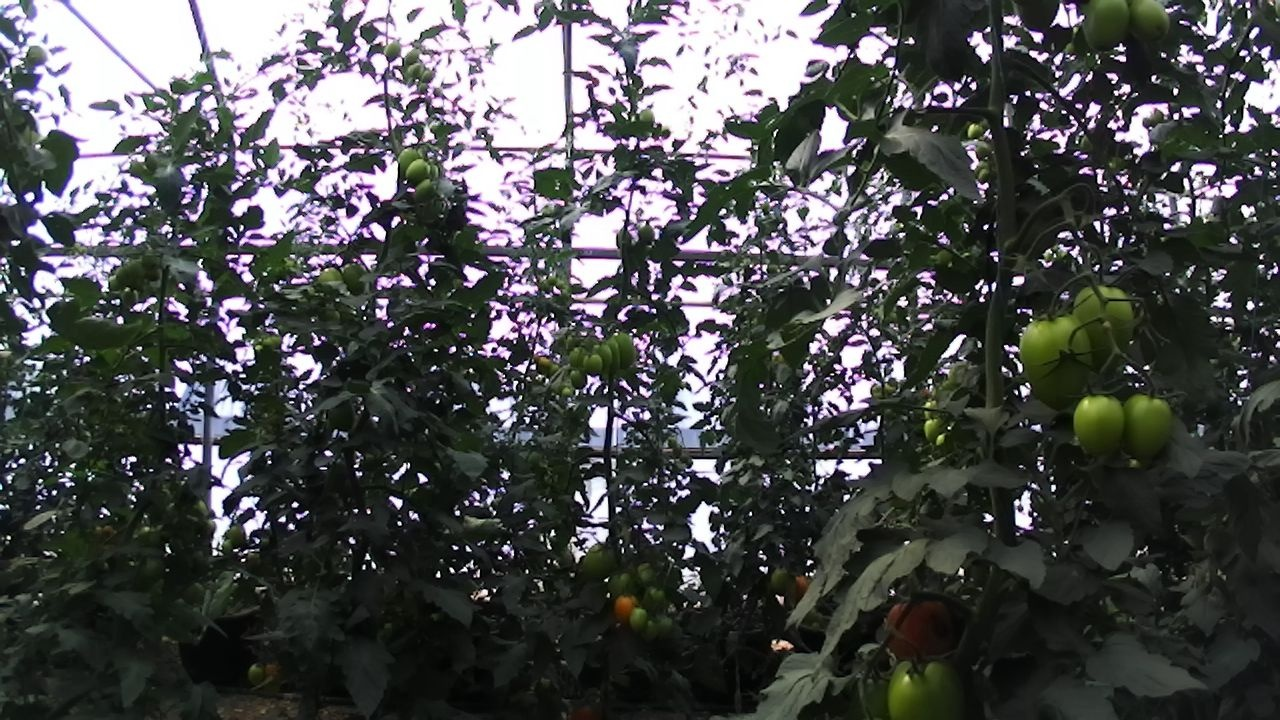tomato: (1006, 299, 1109, 426), (1060, 269, 1151, 379), (865, 585, 977, 673), (871, 641, 976, 720), (1061, 378, 1137, 469), (1114, 381, 1186, 468), (1072, 0, 1142, 68), (1115, 0, 1181, 67), (577, 540, 624, 585), (337, 260, 377, 301), (131, 547, 169, 590), (312, 260, 352, 297), (602, 566, 640, 604), (628, 557, 665, 593), (612, 328, 639, 375), (19, 37, 55, 72), (401, 154, 436, 189), (611, 591, 643, 628), (765, 562, 796, 599), (394, 141, 422, 181), (919, 412, 951, 446), (638, 580, 669, 614), (602, 333, 625, 378), (647, 610, 680, 639), (412, 174, 441, 206), (960, 114, 989, 144), (378, 35, 408, 64), (625, 603, 652, 635), (580, 350, 607, 380), (244, 659, 270, 690), (402, 56, 430, 84), (636, 616, 662, 646), (634, 217, 660, 247), (224, 521, 249, 551), (635, 100, 659, 131), (566, 343, 593, 370), (398, 41, 424, 68), (415, 62, 441, 88), (567, 364, 590, 392), (594, 339, 615, 369), (533, 352, 554, 376), (413, 77, 433, 99), (557, 382, 574, 400)
